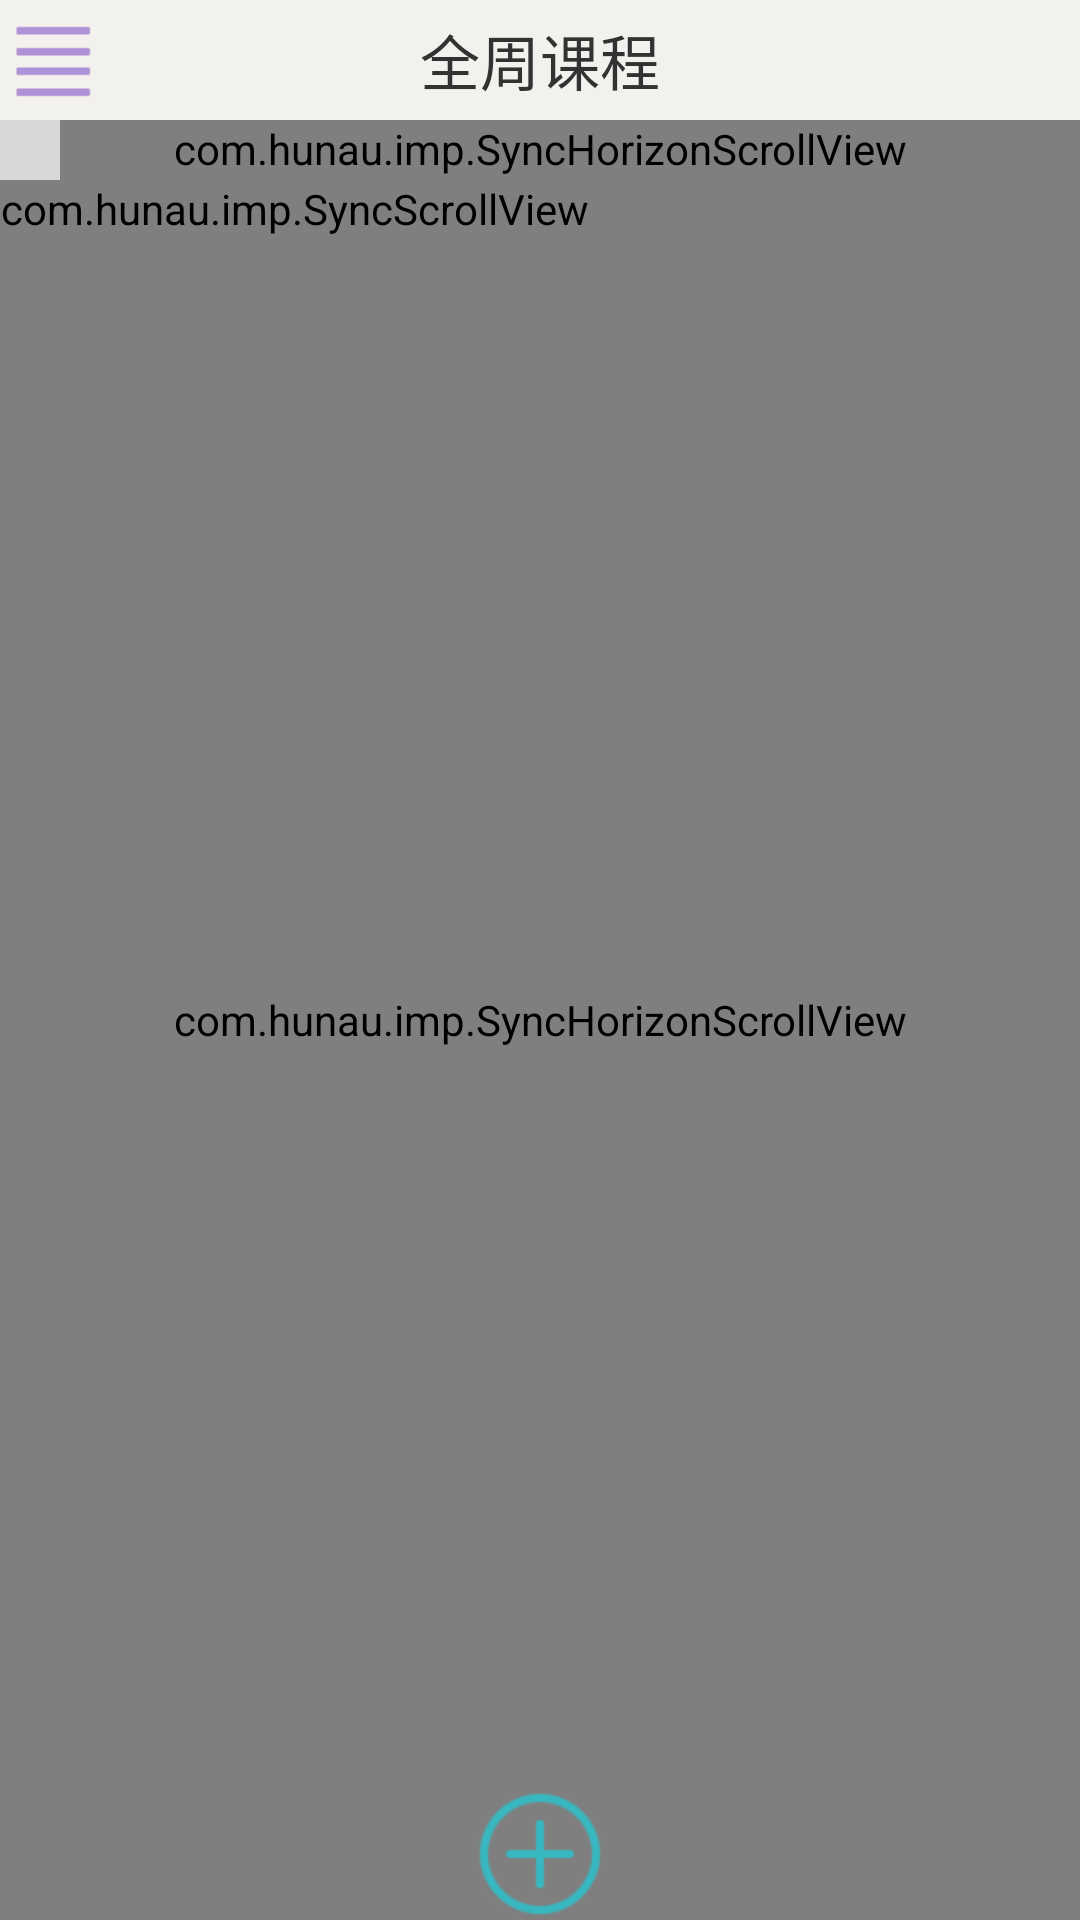

Screen size 1080w x 1920h. Icon name, then its box in pixels as [x1,y1,x2,y2]:
返回主菜单: [16,27,90,96]
